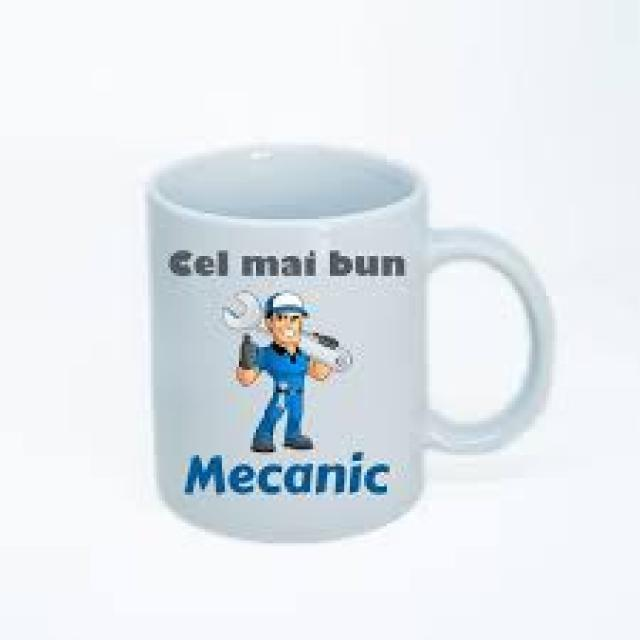taza: (53, 70, 640, 598)
